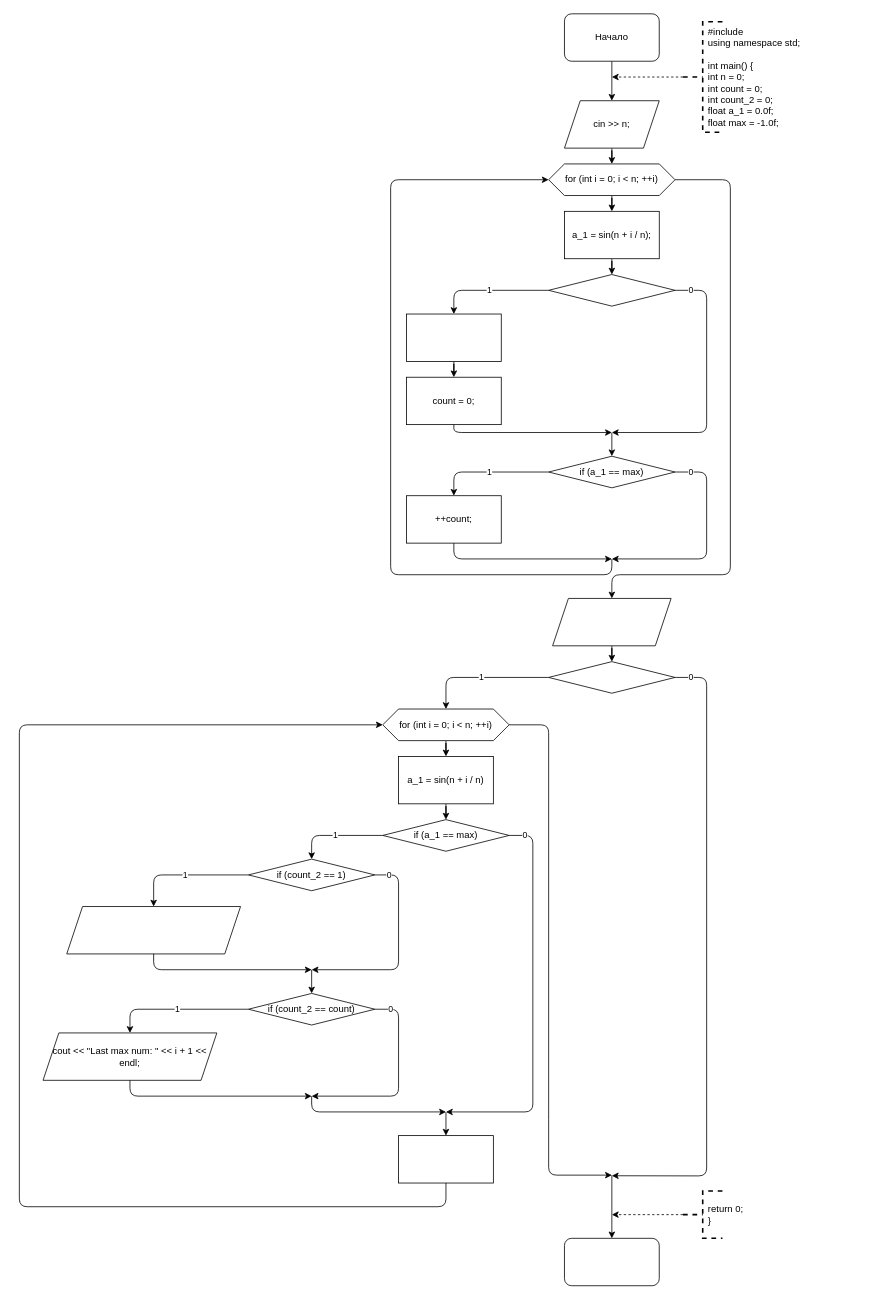
Some shapes in this 894 by 1300 pixel diagram are drawn without their labels. Each missing label, with the centre of its shape:
++count_2;: (445,1159)
cout << "First max num: " << i + 1 << endl;: (153,930)
cout << "Max num: " << max << endl;: (611,622)
if (a_1 > max): (611,290)
if (count > 1): (611,677)
max = a_1;: (453,337)
Конец: (611,1262)
